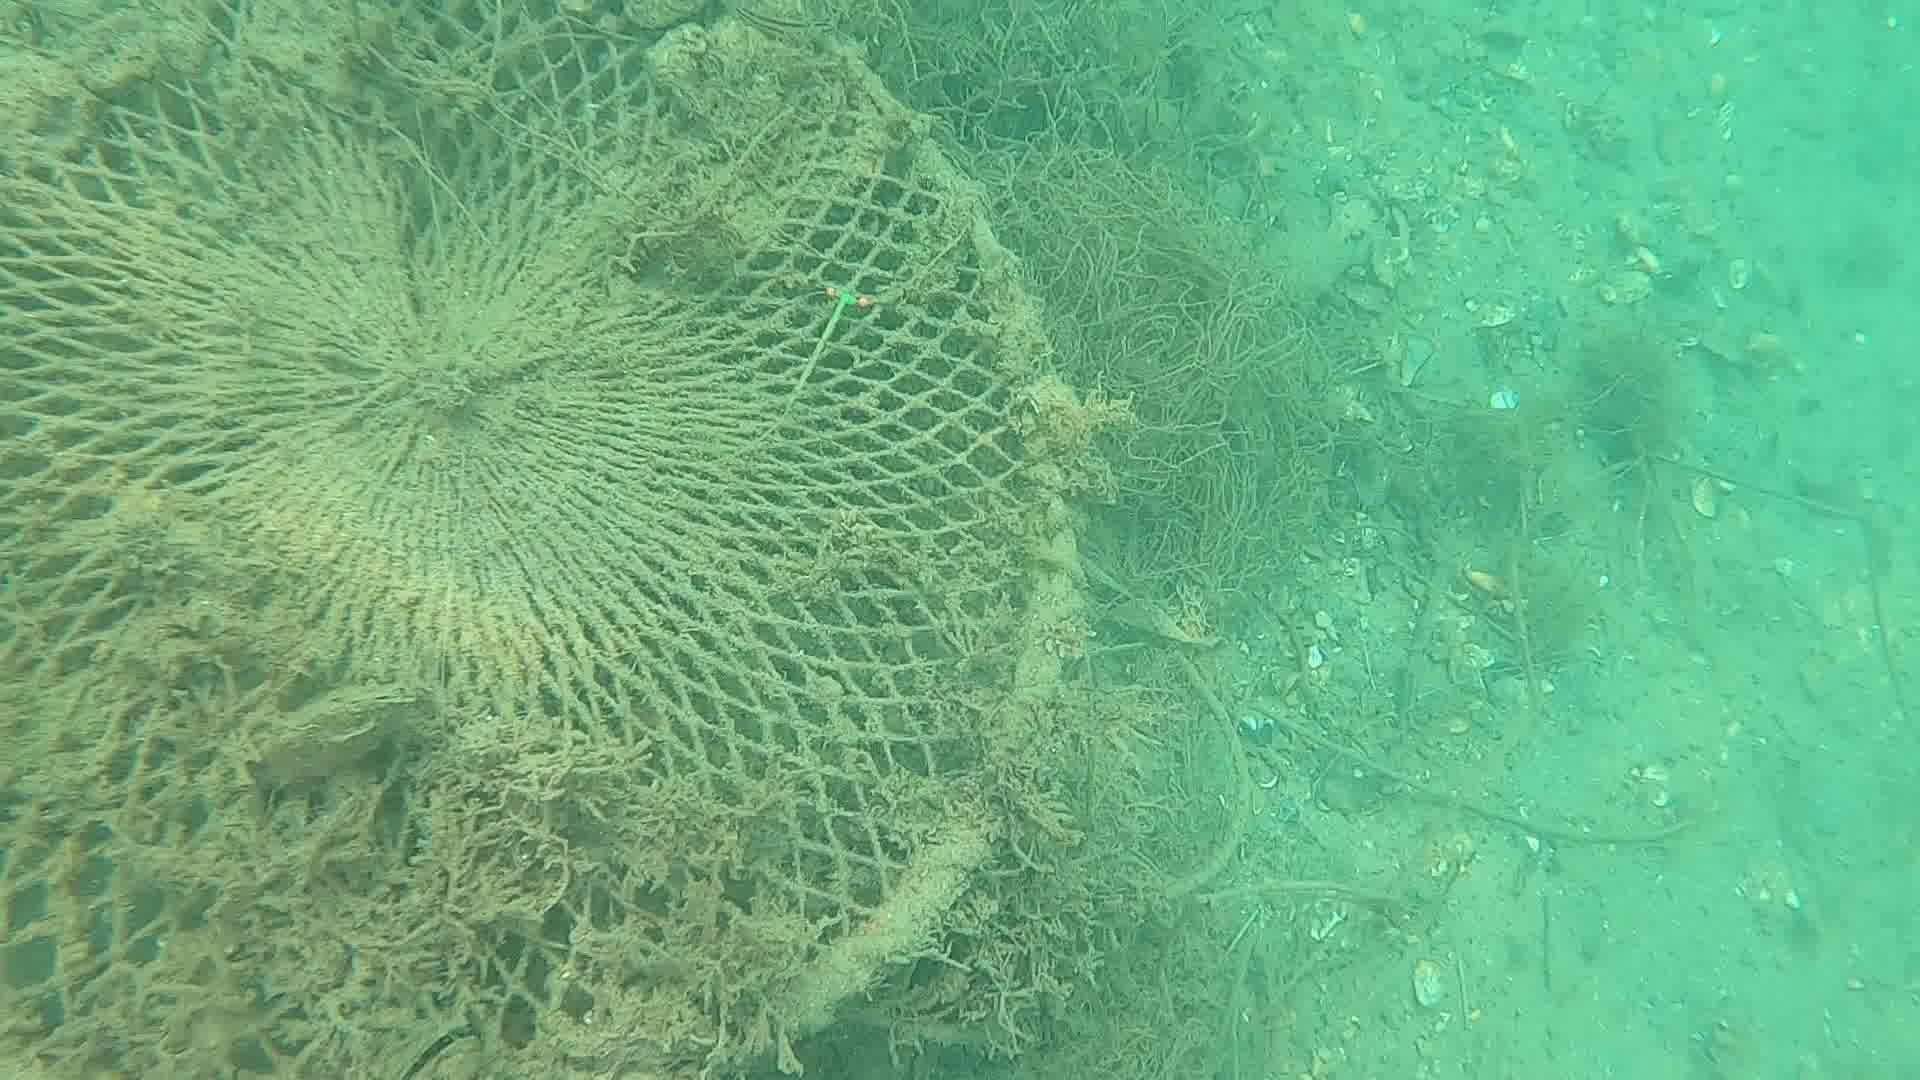circular fish trap: (0, 0, 1087, 1080)
